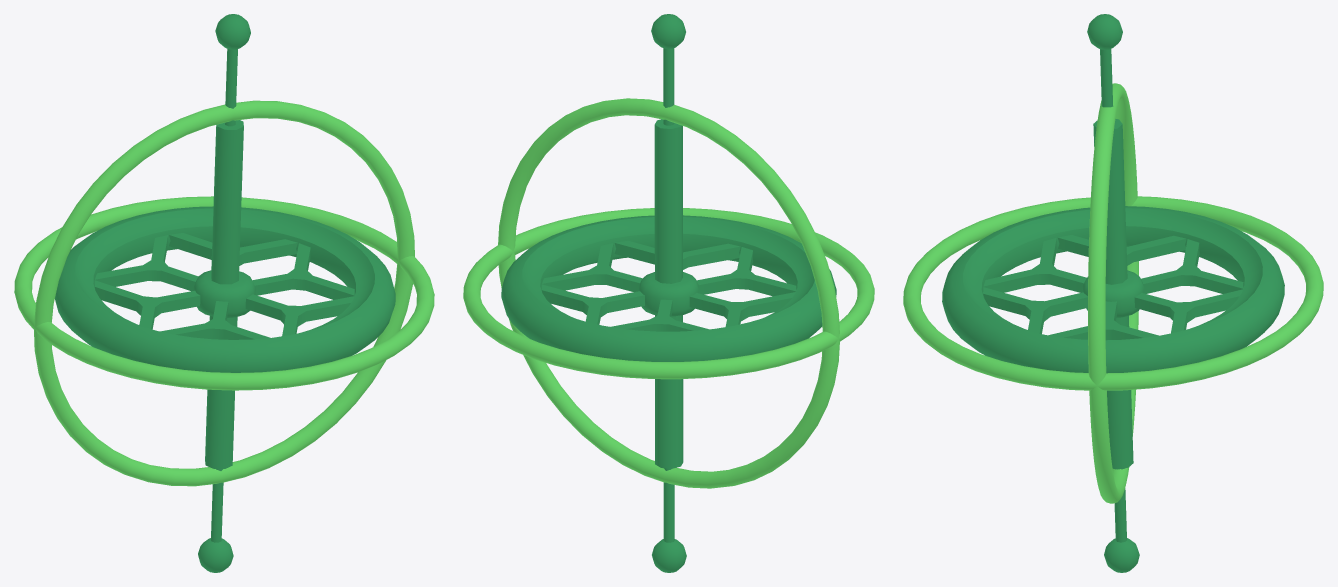
File: gyro_02.glb
The picture shows the model from 3 angles, left to right: view 1: azimuth 30°, elevation 25°; view 2: azimuth 150°, elevation 25°; view 3: azimuth 270°, elevation 25°; orthographic projection. The views are drawn at different scales.
Visible parts, largest first — view 1: axis, gyro.001; view 2: axis, gyro.001; view 3: axis, gyro.001.
Boxes of the visible parts, x1,y1,x2,y2 form: axis: [55, 14, 395, 572]; gyro.001: [14, 100, 434, 486]; axis: [501, 14, 836, 572]; gyro.001: [463, 98, 874, 488]; axis: [942, 14, 1284, 572]; gyro.001: [903, 83, 1323, 503].
Bounding box in the file's own units: 0.8929 × 1.31 × 0.8926.
